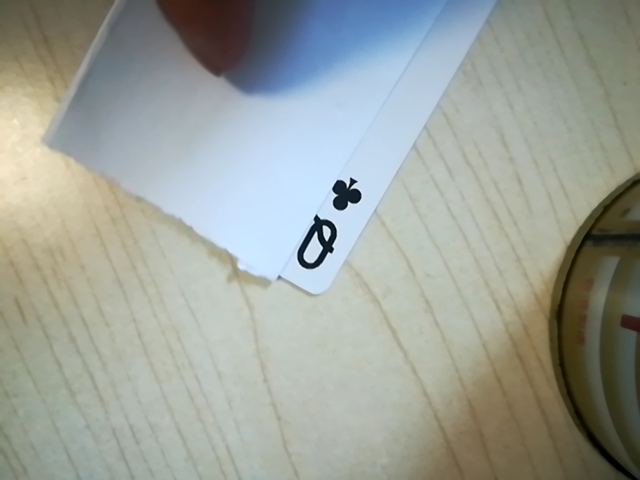mh q: (286, 170, 362, 285)
